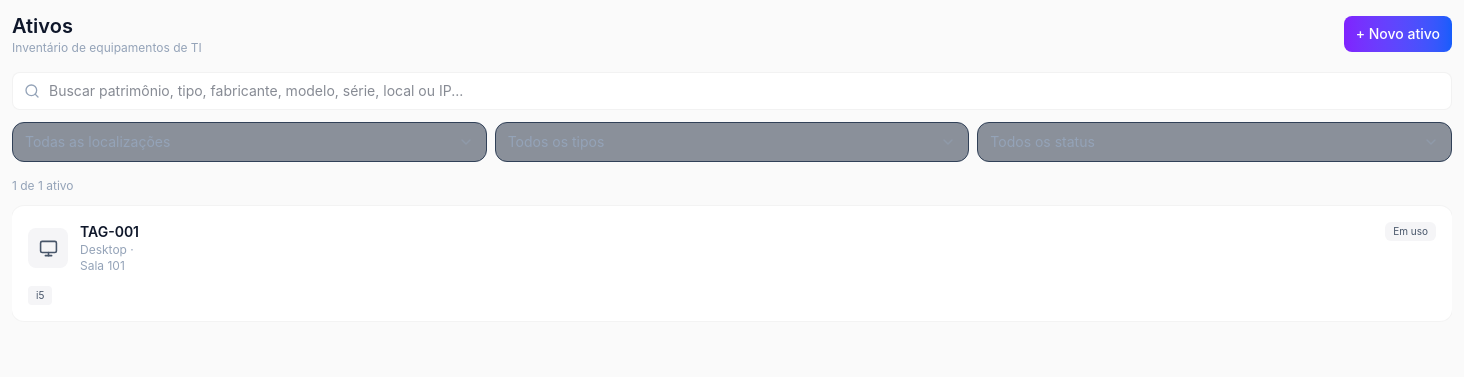
Scenario: PCList › mostra empty state quando nenhum ativo encontrado na busca
The width and height of the screenshot is (1464, 377).
Replace the text in the field with placeholder "Buscar" with "inexistente" at (732, 91), box [12,72,1452,110]
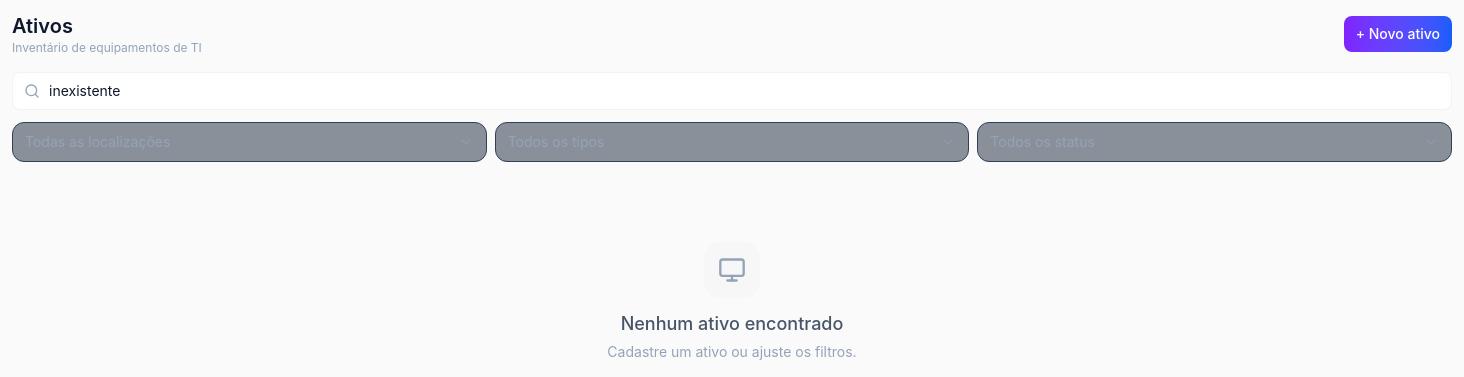
Expected: the heading "Nenhum ativo encontrado" is shown, [621,310,843,338]
